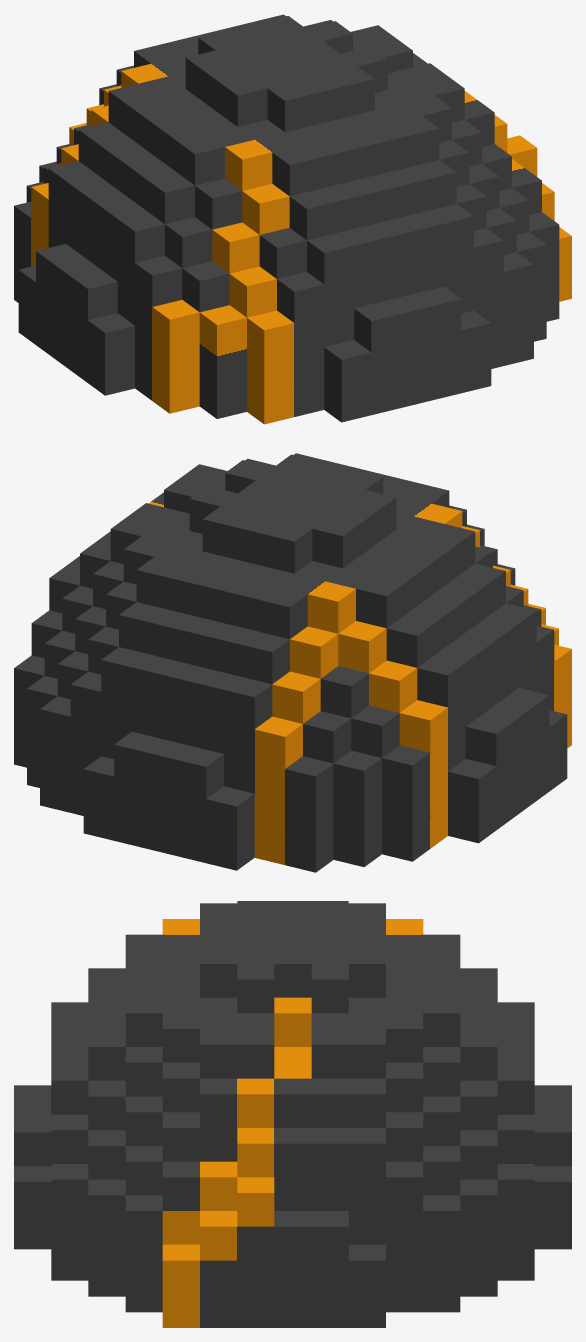
The model's file is MoltenRock.dae.
3 renders of one model, top to bottom at view 1: azimuth 30°, elevation 25°; view 2: azimuth 150°, elevation 25°; view 3: azimuth 270°, elevation 25°, orthographic. The views are drawn at different scales.
Visible parts, largest first — view 1: moltenrock.merged; view 2: moltenrock.merged; view 3: moltenrock.merged.
Part boxes in pixels (left/top/right/bottom): moltenrock.merged: left=14, top=14, right=571, bottom=424; moltenrock.merged: left=14, top=453, right=571, bottom=872; moltenrock.merged: left=14, top=901, right=571, bottom=1327.
Size of the model in its own units: 1.5 by 0.8 by 1.5.
Materials: 1 (1 with a texture image).
